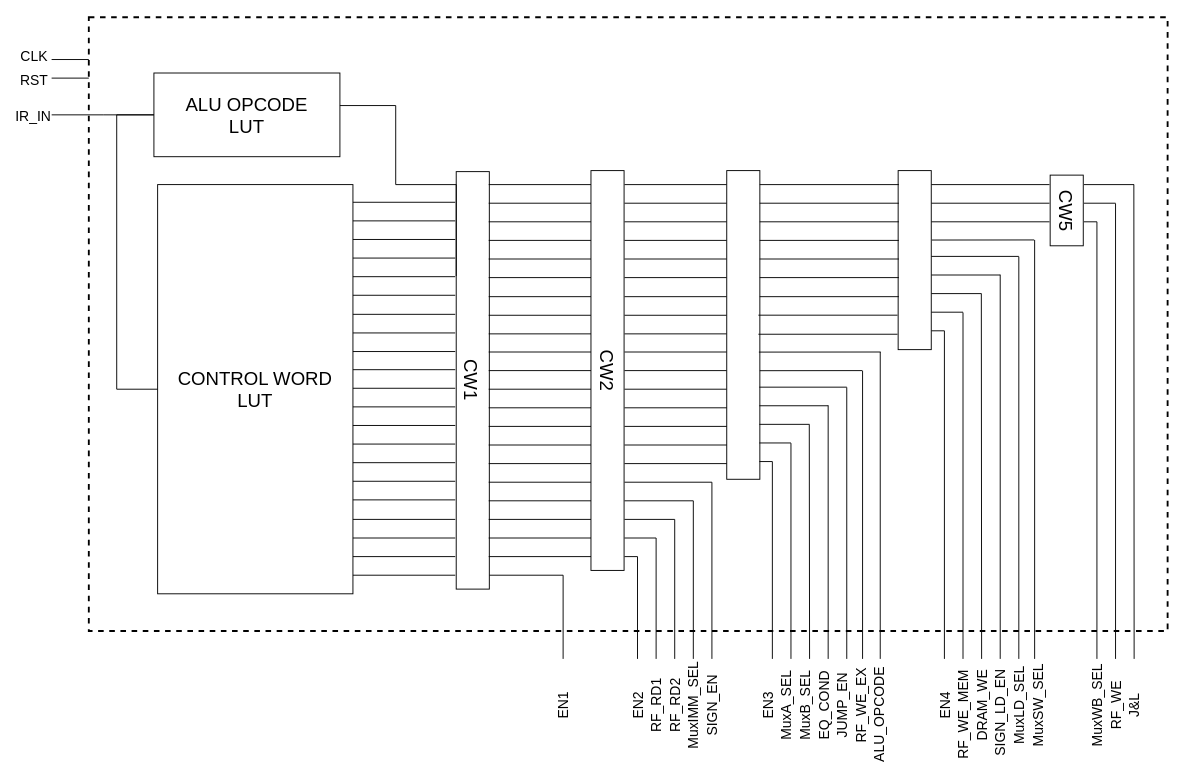
Some shapes in this 1185 by 778 pixel diagram are drawn without their labels. Here are the shapes that lost their labels. From the top down, the centre of each, then its label:
At point (914, 260): "CW4".
At point (743, 324): "CW3".
